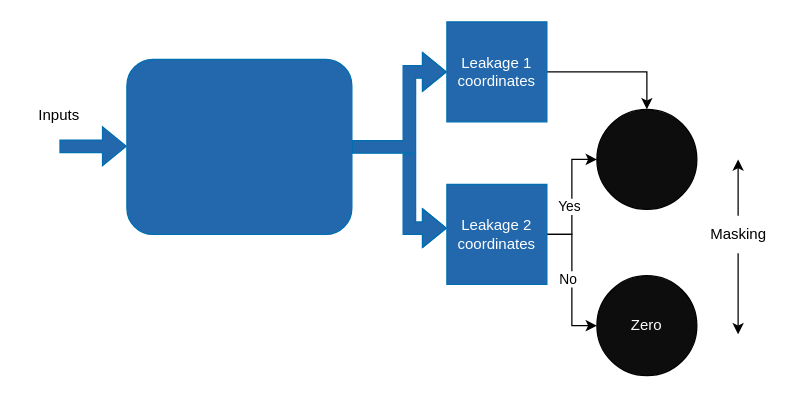
This 803x398 diagram has some shape labels left out. Each missing label, with the centre of its shape:
MSE: pixel 646 158
Neural network: pixel 239 146
